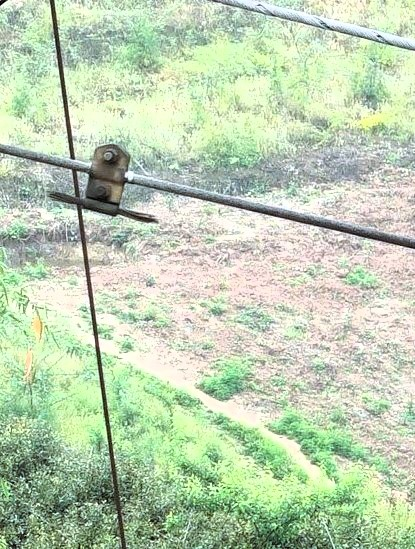Damage of shockproof hammer: (40, 138, 166, 235)
